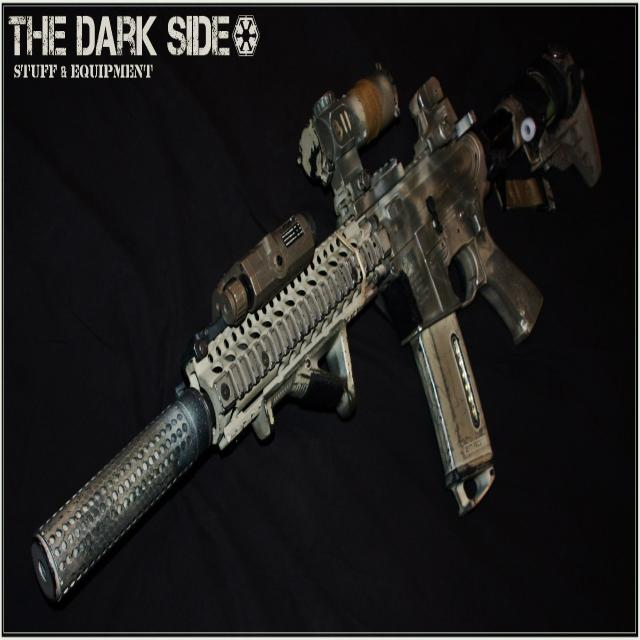firearm: (31, 48, 601, 600)
